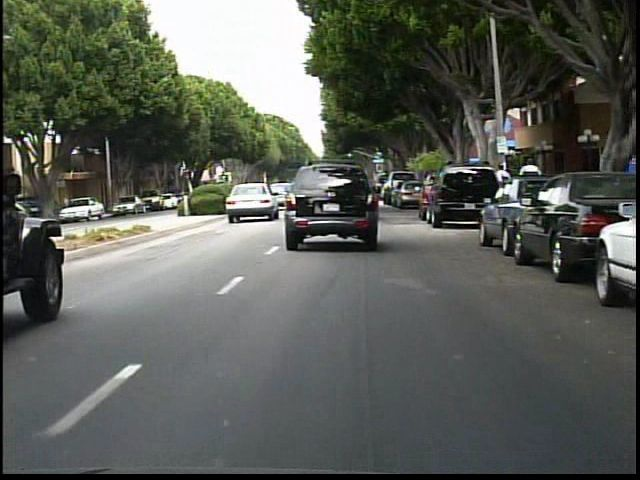person: (515, 155, 542, 217), (490, 162, 513, 212), (58, 190, 77, 223)
